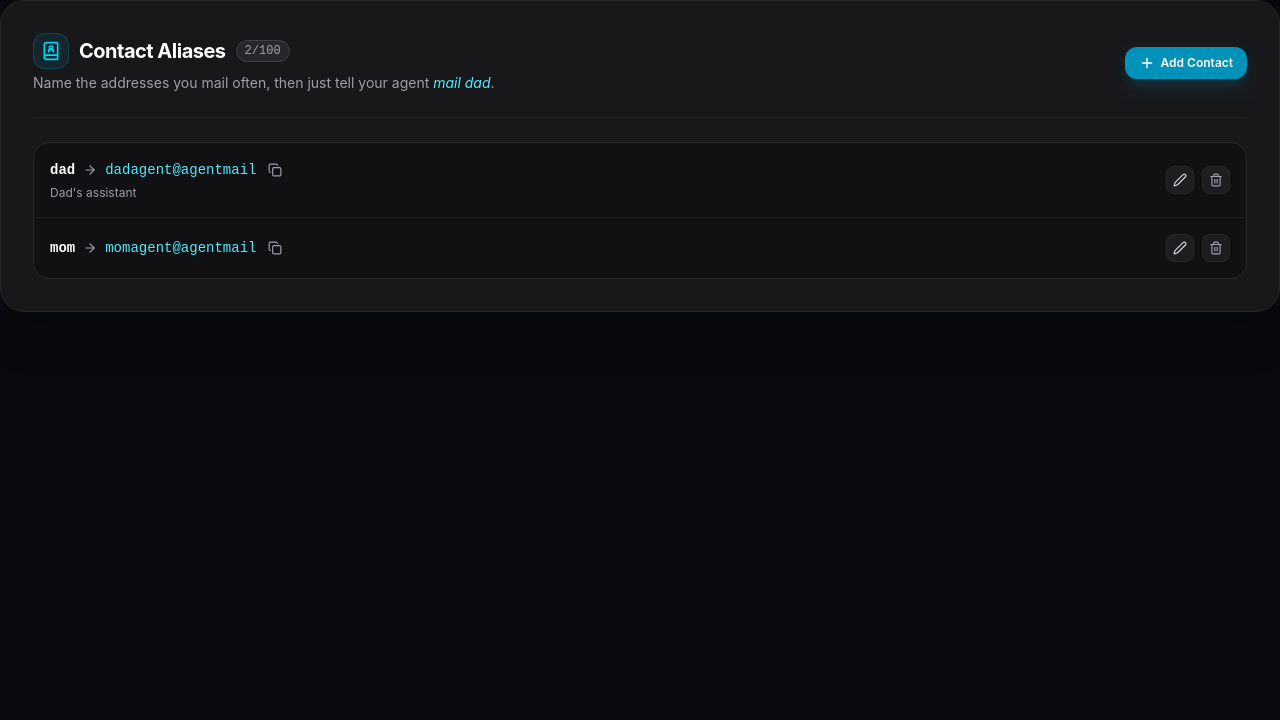
ContactsCard (PRD §6.7 & §10) › handles inline ALIAS_EXISTS error per PRD §6.7 & §7.1
Click the button "Add Contact": (1186, 63) [1124,47,1247,79]
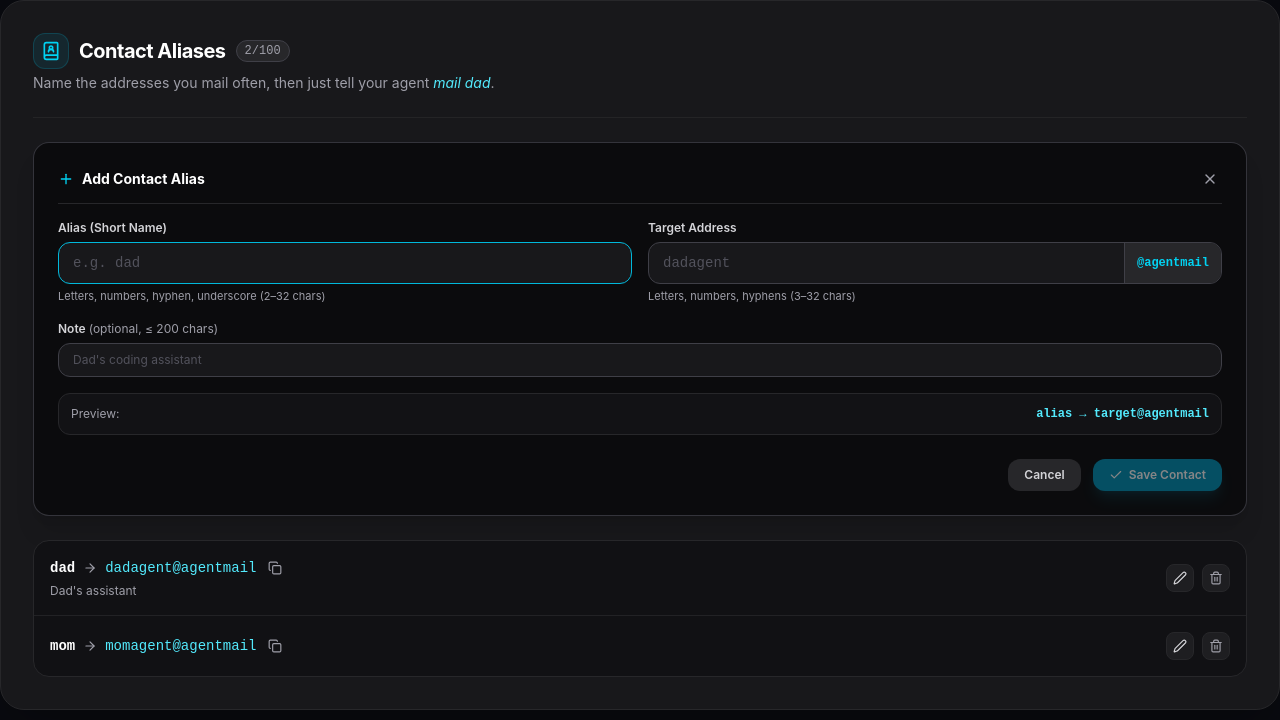
In the field with placeholder "e.g. dad": (345, 263) [58,242,632,284], type "dad"
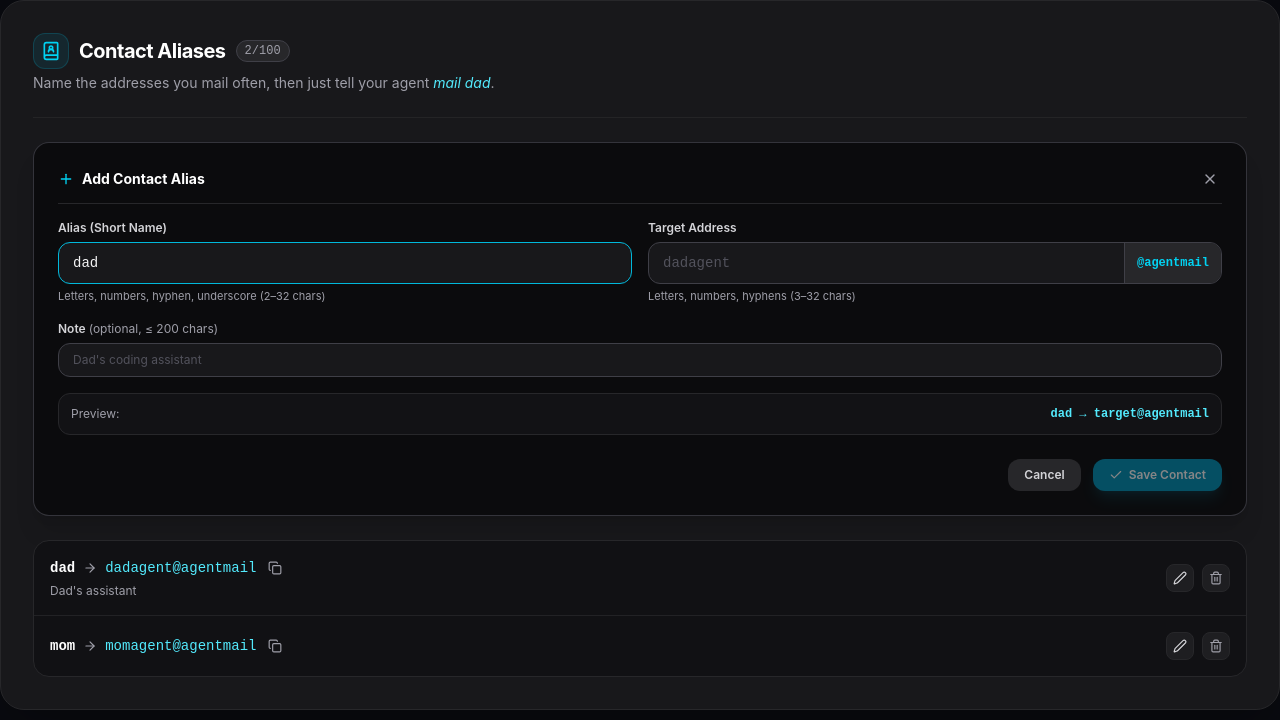
In the field with placeholder "dadagent": (886, 263) [649,243,1124,283], type "newdad"
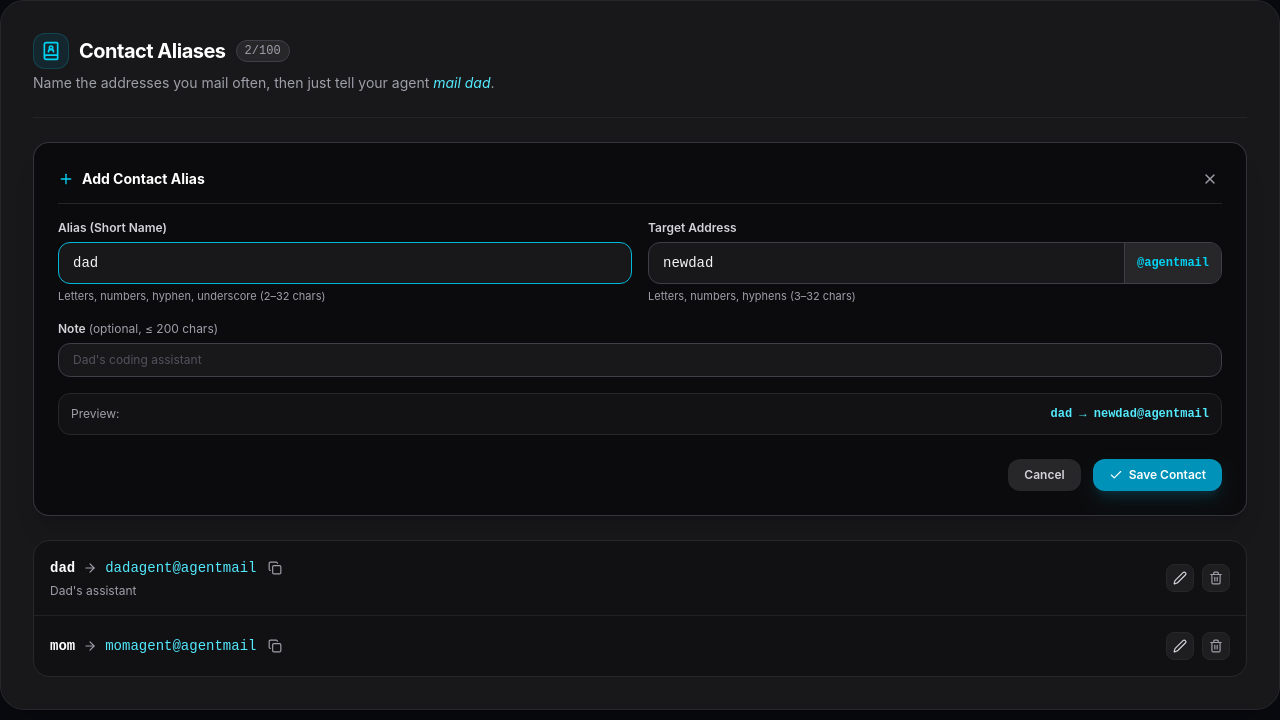
Click the button "Save Contact": (1157, 474) [1093,458,1222,490]
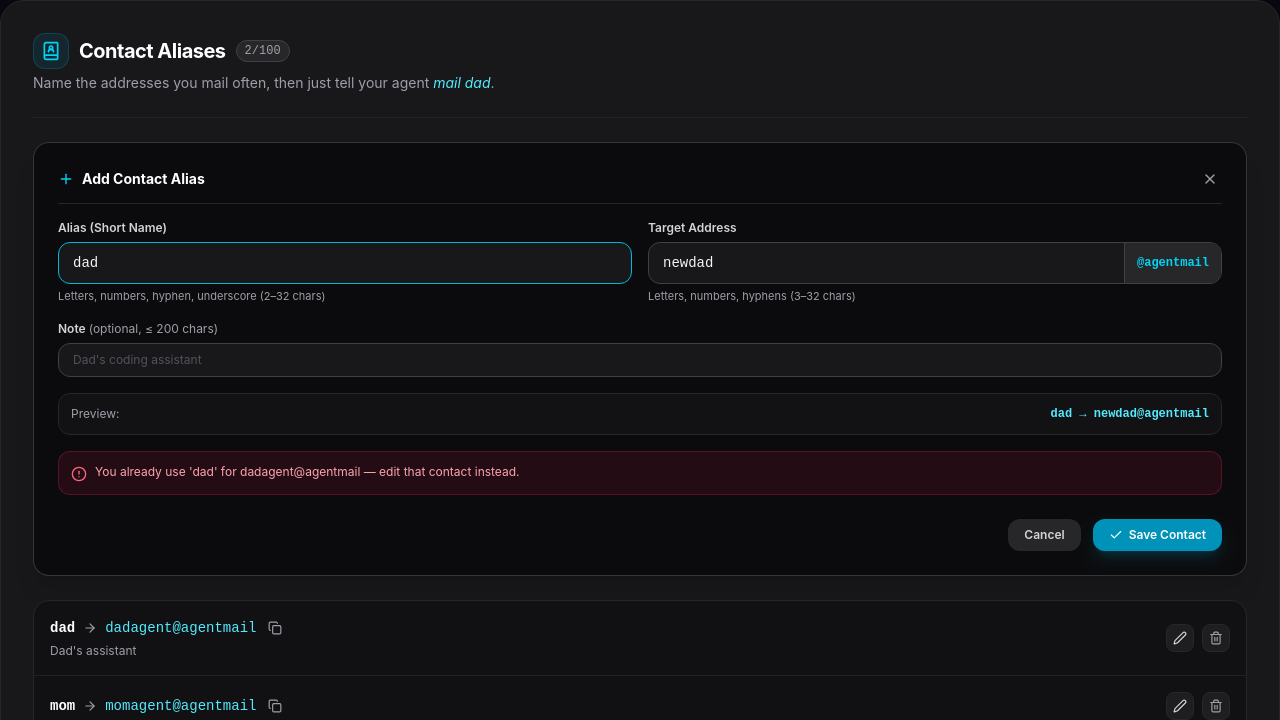
Result: the text "You already use 'dad' for dadagent@agentmail — edit that contact instead." is shown at [95,464,520,480]
